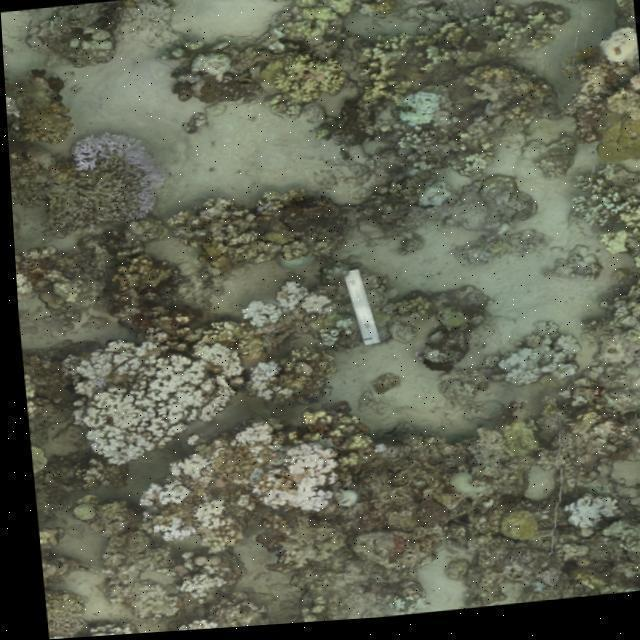Bleached Coral: (50, 336, 233, 459), (234, 438, 353, 527), (127, 475, 220, 555), (388, 81, 461, 141), (238, 279, 331, 325), (73, 129, 160, 177), (123, 451, 212, 491), (126, 166, 184, 220), (552, 503, 623, 545), (164, 566, 223, 609), (233, 356, 284, 397)
